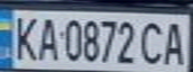0: (60, 16, 81, 62)
2: (115, 17, 142, 65)
7: (100, 16, 118, 64)
8: (78, 16, 103, 63)
A: (160, 18, 190, 66), (33, 14, 60, 62)
C: (136, 18, 169, 66)
K: (9, 12, 42, 62)
